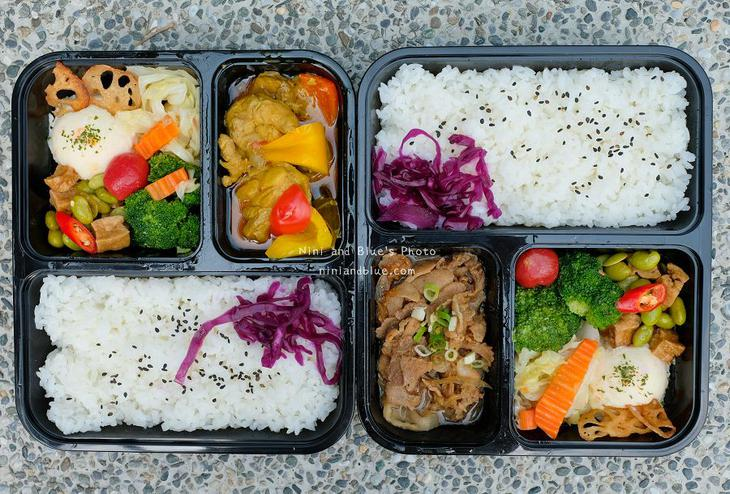rice: (492, 70, 684, 219), (43, 281, 227, 423), (383, 72, 492, 137), (229, 358, 335, 422)
